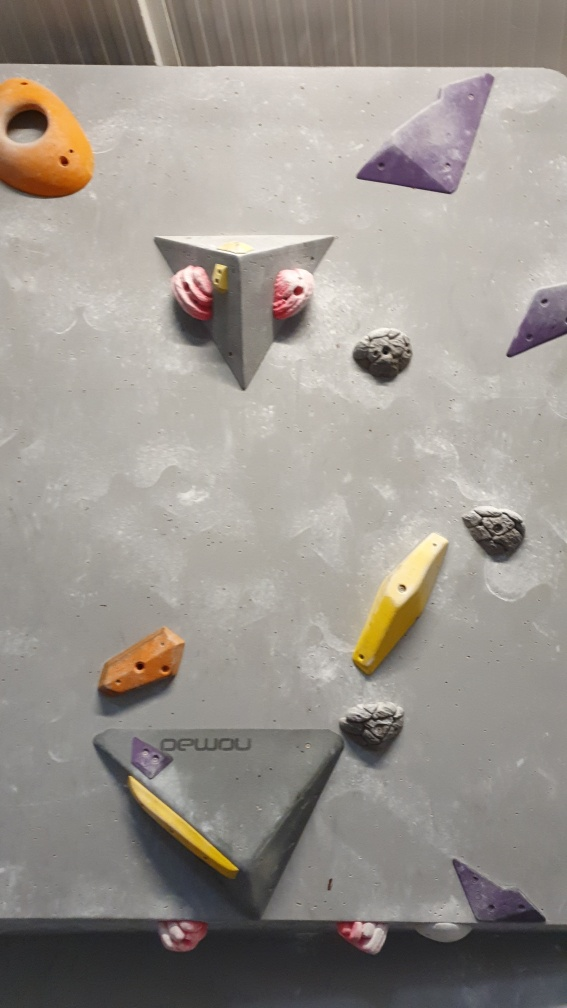Crimp: (128, 735, 175, 782)
Jug: (459, 503, 530, 562), (353, 328, 415, 385), (340, 701, 407, 753), (272, 268, 319, 322), (174, 263, 215, 324), (335, 918, 391, 961), (153, 919, 208, 957)
Pinch: (353, 531, 451, 676), (98, 627, 186, 700)
Pocket: (1, 70, 98, 199)
